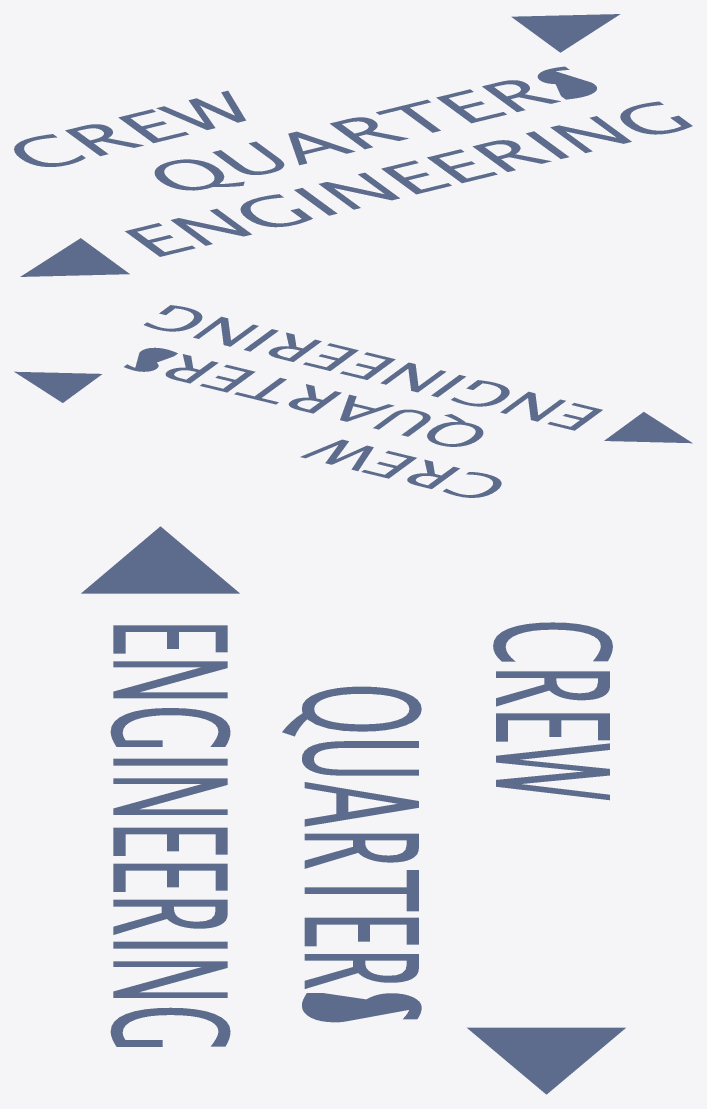
File: Crew_Engineering.fbx
The picture shows the model from 3 angles, top to bottom: view 1: azimuth 30°, elevation 25°; view 2: azimuth 150°, elevation 25°; view 3: azimuth 270°, elevation 25°; orthographic projection. The views are drawn at different scales.
Parts seen in each view (by area): view 1: Crew_Engineering; view 2: Crew_Engineering; view 3: Crew_Engineering.
Part boxes in pixels (left/top/right/bottom): Crew_Engineering: left=14, top=14, right=692, bottom=276; Crew_Engineering: left=14, top=305, right=692, bottom=497; Crew_Engineering: left=81, top=526, right=625, bottom=1094.
Size of the model in its own units: 1211 by 6.44e-06 by 492.
